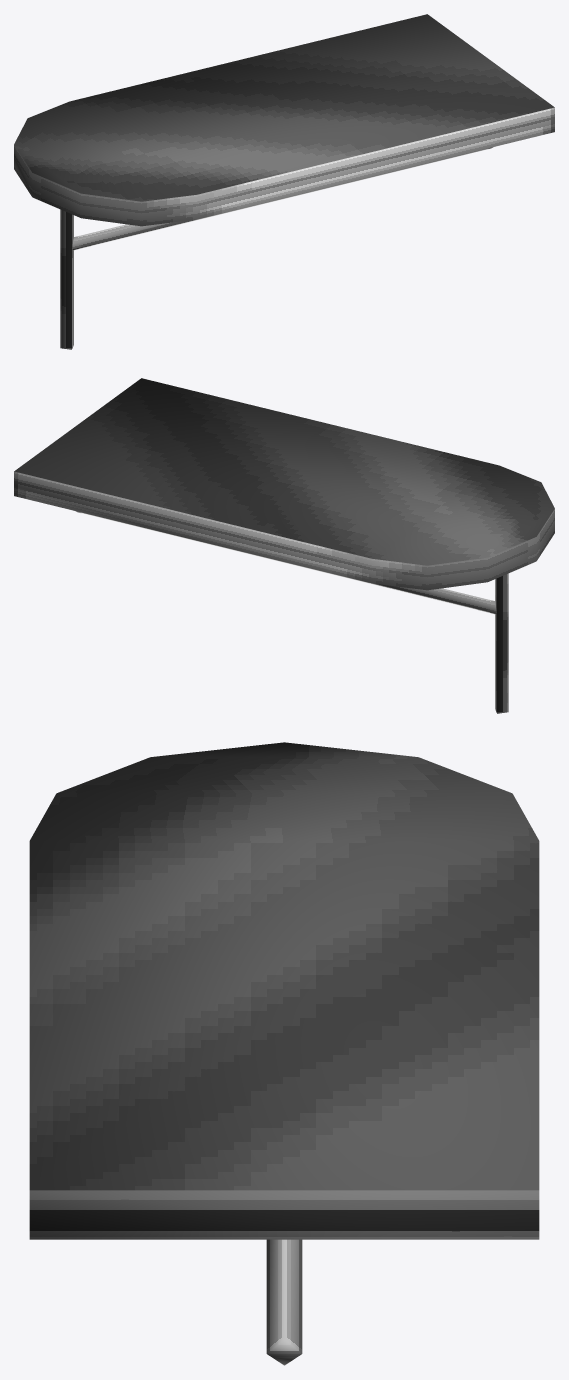
The picture shows the model from 3 angles, top to bottom: view 1: azimuth 30°, elevation 25°; view 2: azimuth 150°, elevation 25°; view 3: azimuth 270°, elevation 25°; orthographic projection. The views are drawn at different scales.
Parts seen in each view (by area): view 1: 3110IMRL08_09; view 2: 3110IMRL08_09; view 3: 3110IMRL08_09.
Part boxes in pixels (<box>): 3110IMRL08_09: <box>14,14,554,349</box>; 3110IMRL08_09: <box>14,378,554,713</box>; 3110IMRL08_09: <box>29,742,539,1365</box>.
Bounding box in the file's own units: 1.98 × 0.75 × 0.9502.
Materials: 2 (2 with a texture image).
